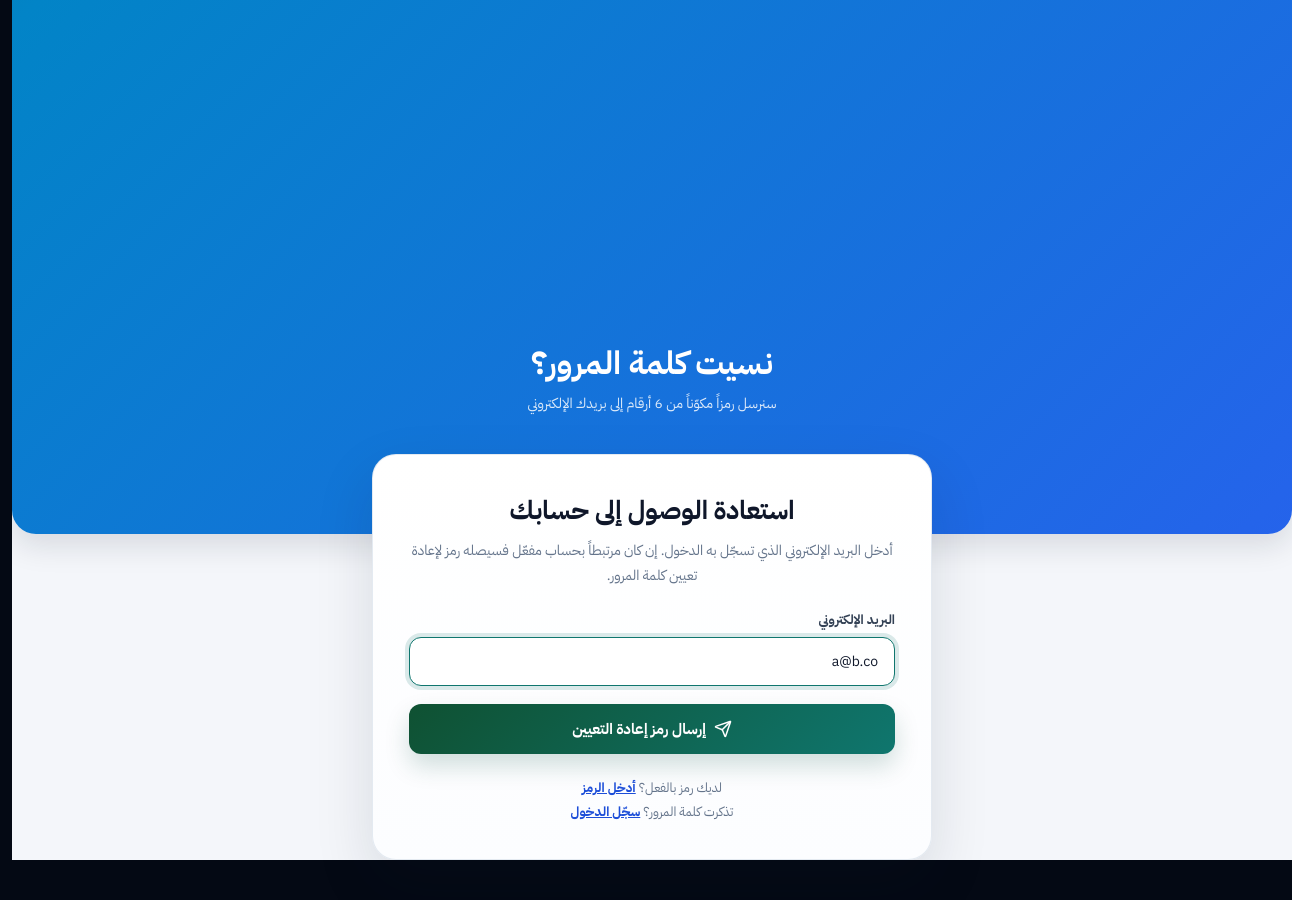
Test: forgot-password page › a server field error lands under the e-mail field
Earlier steps of the test are not shown.
(page scrolled)
Step 1. Click the button "إرسال رمز إعادة التعيين" → coordinates (652, 729), box [409, 704, 895, 754]
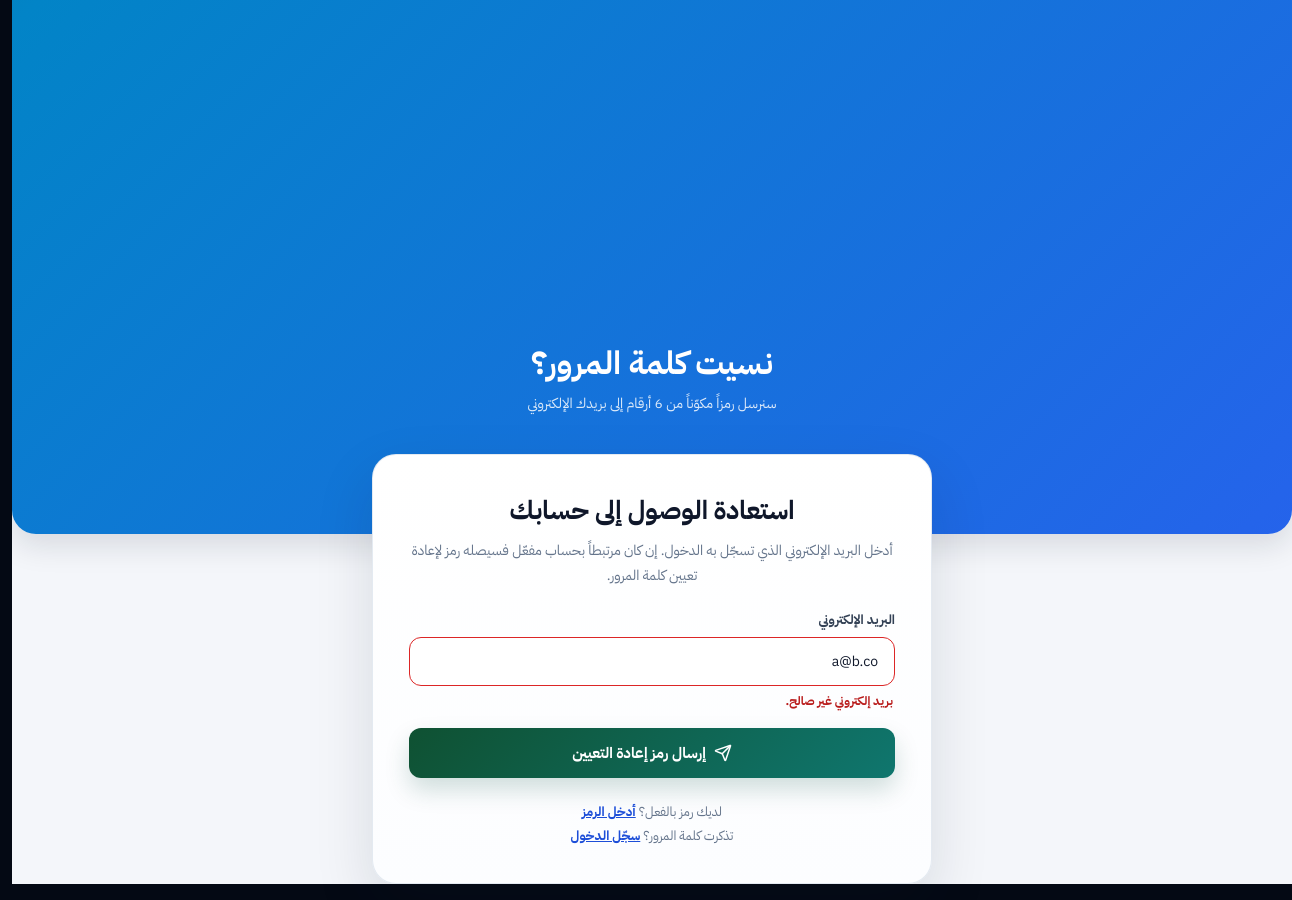
Expected: the text "بريد إلكتروني غير صالح." is shown, [786, 692, 893, 710]
